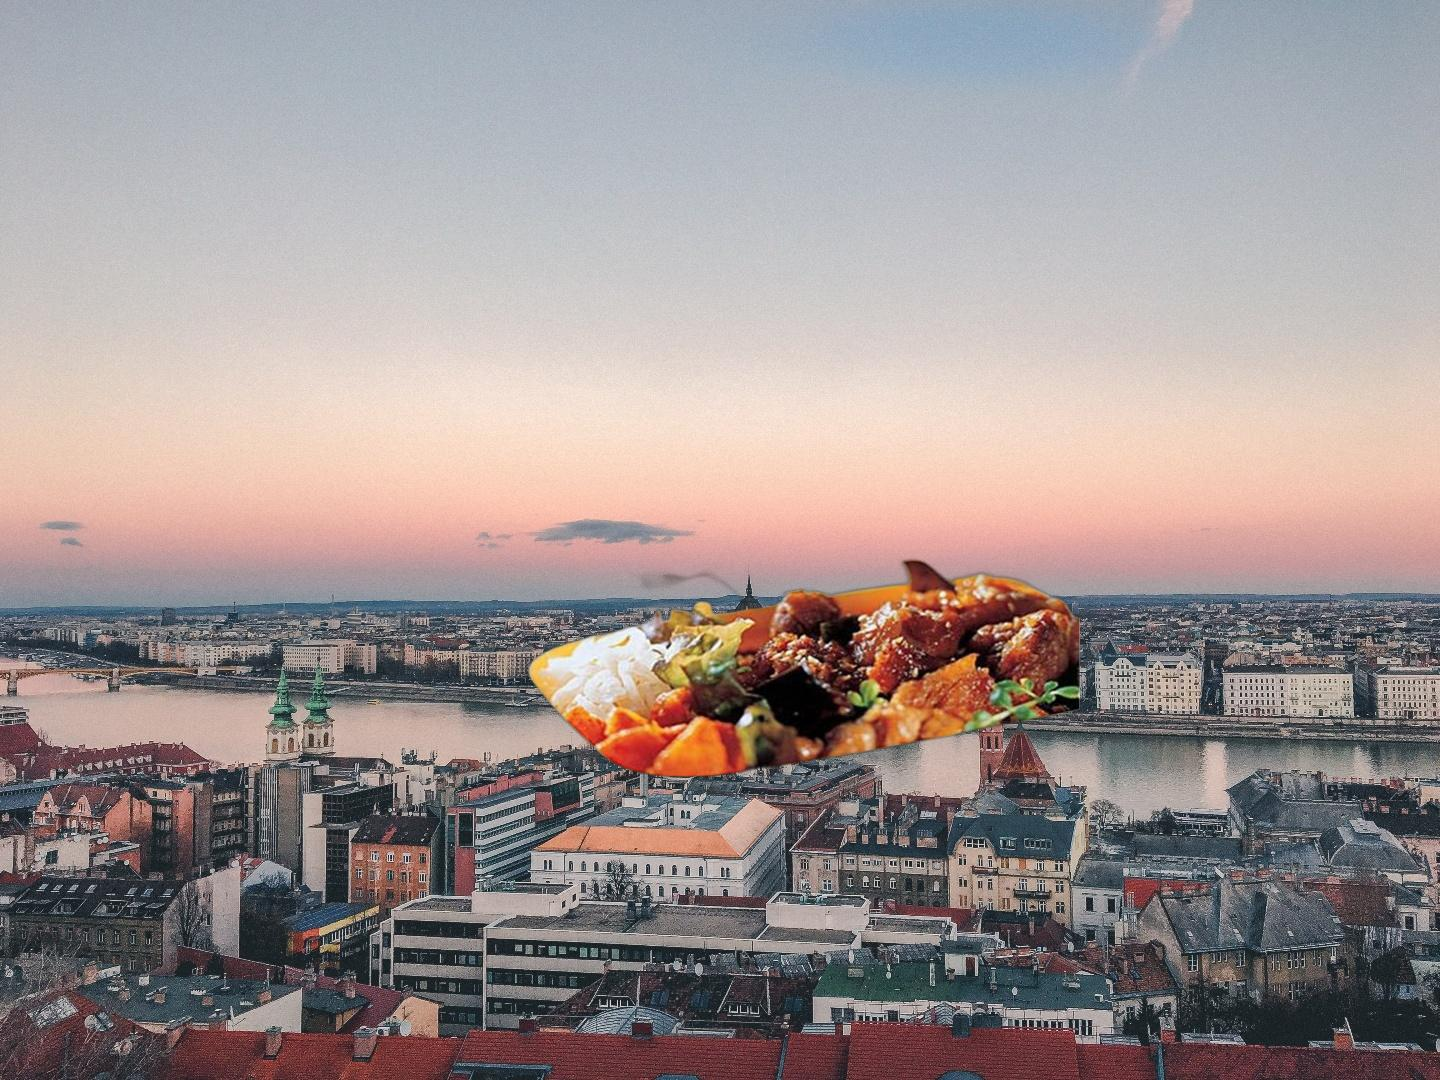biological: (523, 556, 1079, 781)
